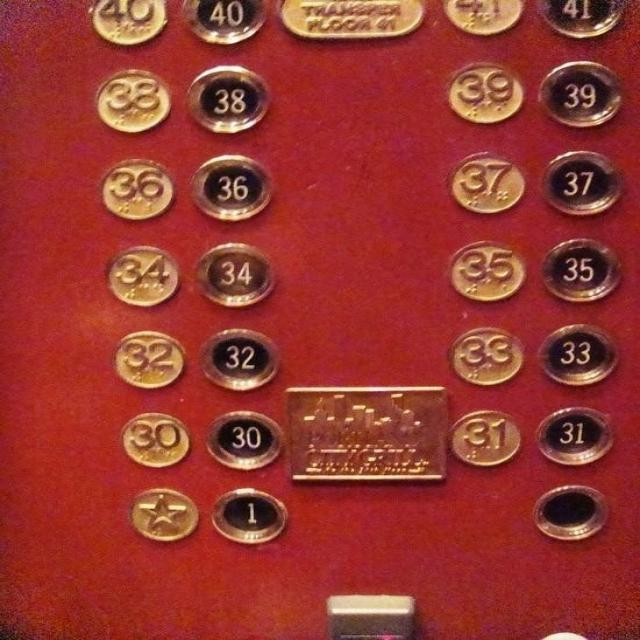1: (207, 483, 286, 546)
30: (202, 408, 282, 470), (114, 408, 193, 470)
31: (444, 406, 525, 469), (534, 405, 615, 468)
32: (105, 326, 187, 394), (198, 326, 280, 394)
33: (534, 323, 617, 387), (446, 323, 526, 386)
34: (101, 241, 184, 309), (191, 240, 273, 308)
35: (538, 237, 622, 303), (446, 238, 526, 300)
36: (92, 154, 178, 222), (188, 154, 274, 222)
37: (539, 146, 627, 216), (446, 150, 526, 213)
38: (184, 64, 270, 132), (89, 66, 174, 134)
39: (534, 60, 625, 128), (443, 60, 524, 123)
40: (185, 0, 263, 46)
empty: (530, 480, 610, 542)
s: (122, 483, 201, 546)
